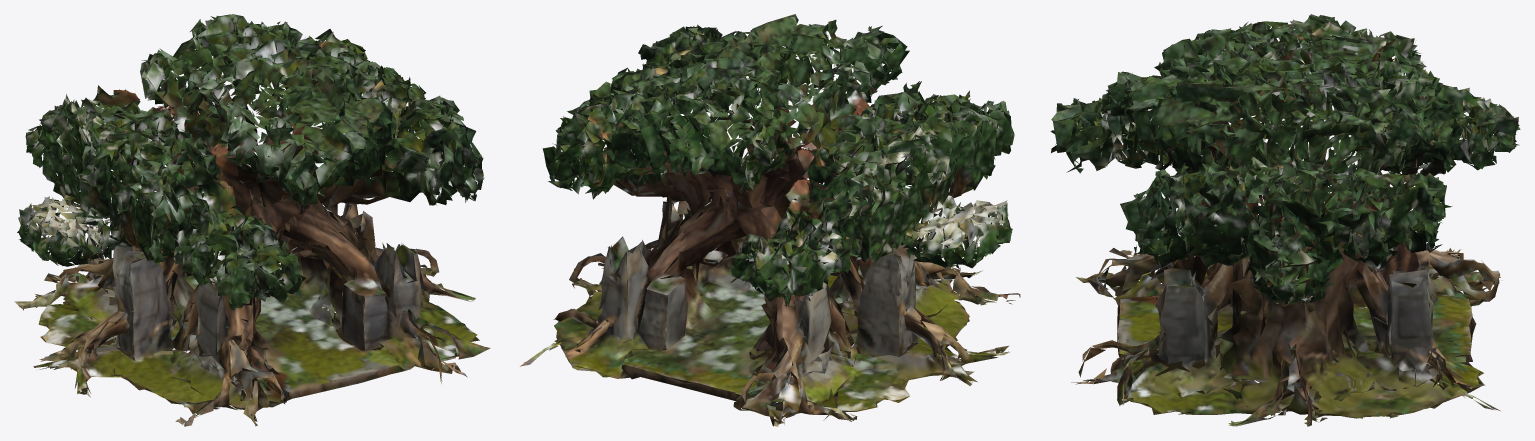
File: F3D_01_AncientTree.fbx
The picture shows the model from 3 angles, left to right: view 1: azimuth 30°, elevation 25°; view 2: azimuth 150°, elevation 25°; view 3: azimuth 270°, elevation 25°; orthographic projection. The views are drawn at different scales.
Parts seen in each view (by area): view 1: F3D_01_AncientTree; view 2: F3D_01_AncientTree; view 3: F3D_01_AncientTree.
Boxes of the visible parts, bbox=[...] form: F3D_01_AncientTree: bbox=[14, 14, 490, 426]; F3D_01_AncientTree: bbox=[520, 14, 1020, 426]; F3D_01_AncientTree: bbox=[1050, 14, 1520, 426].
Bounding box in the file's own units: 1.59 × 1.01 × 1.47.
